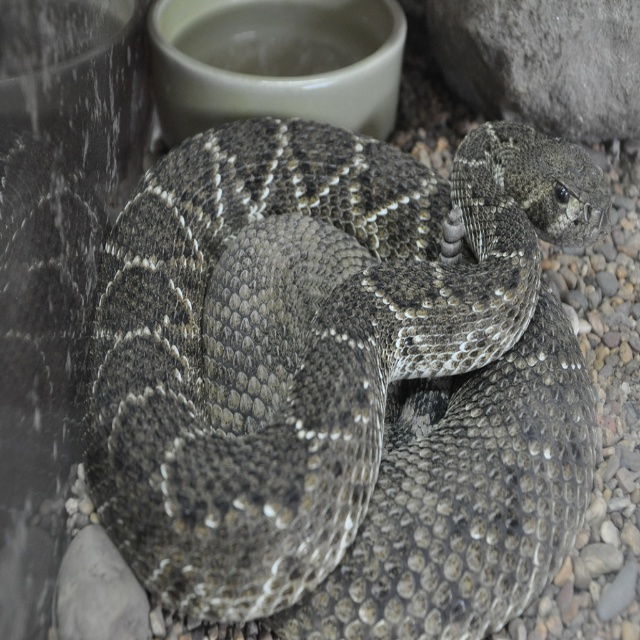Snake: (81, 115, 611, 640)
